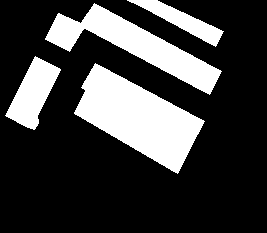parkingspot: (79, 3, 221, 94), (81, 63, 204, 147), (74, 88, 191, 173), (127, 0, 223, 46), (5, 56, 60, 129), (45, 13, 85, 51)
